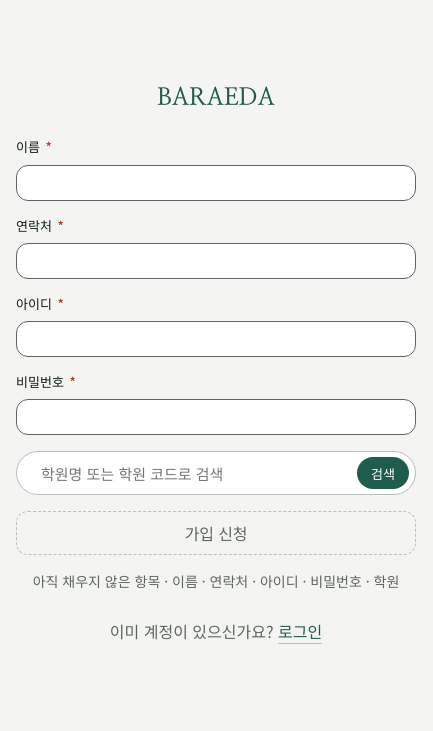
Test: SignupForm › 학원 결과 행은 버튼이라 키보드로 고를 수 있고, 고른 행에 선택 표시가 붙는다
Type "학원" into the field with placeholder "학원명 또는 학원 코드로 검색". click: [194, 473]
box: [39, 462, 349, 485]
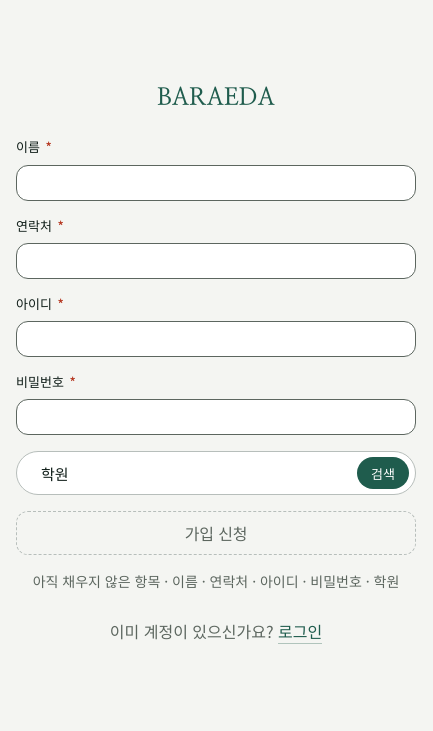
Click the button "검색". click: [383, 473]
box: [357, 457, 409, 489]
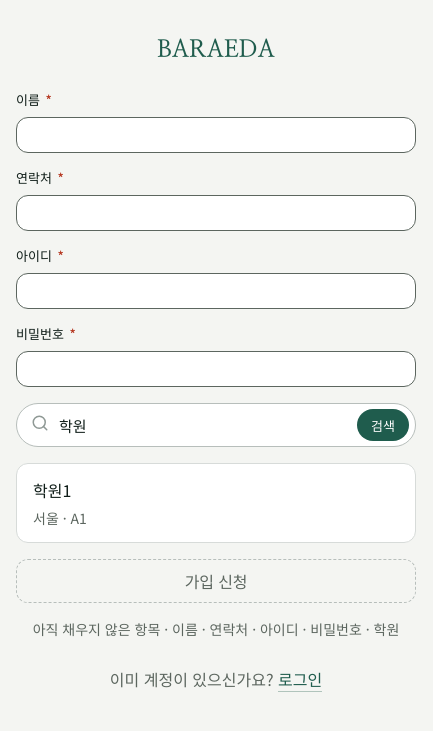
Click the button "학원1 서울 · A1". click: [52, 490]
box: [16, 463, 416, 543]
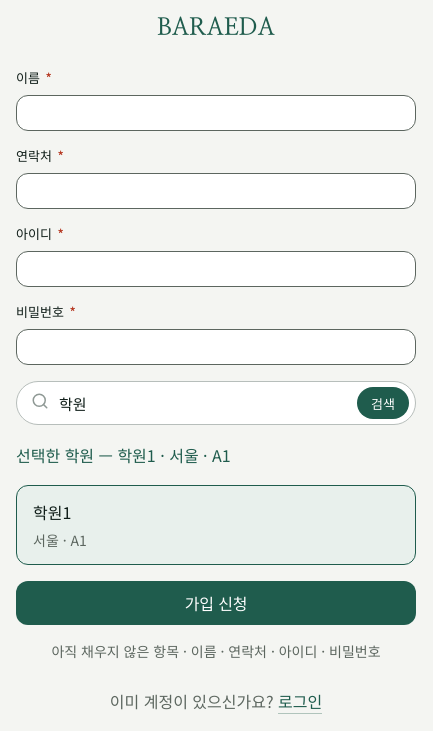
Expected: the text "선택한 학원 — 학원1 · 서울 · A1" is shown, [16, 443, 231, 467]
